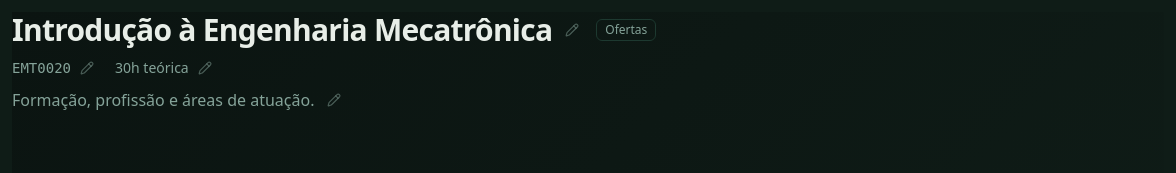
Test: section link › steps aside while the title is being edited
Click the button named "Editar nome da disciplina".
click(572, 30)  # box [560, 18, 584, 42]
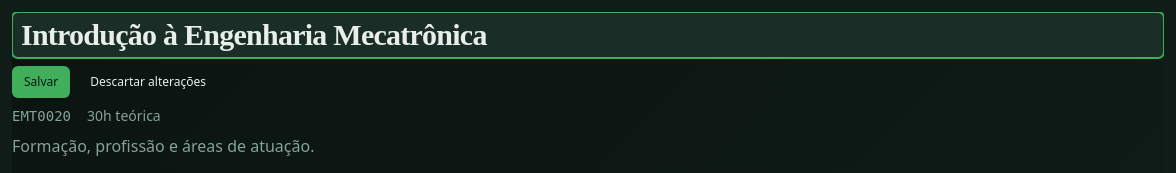
Check: the link "Ofertas" is gone
